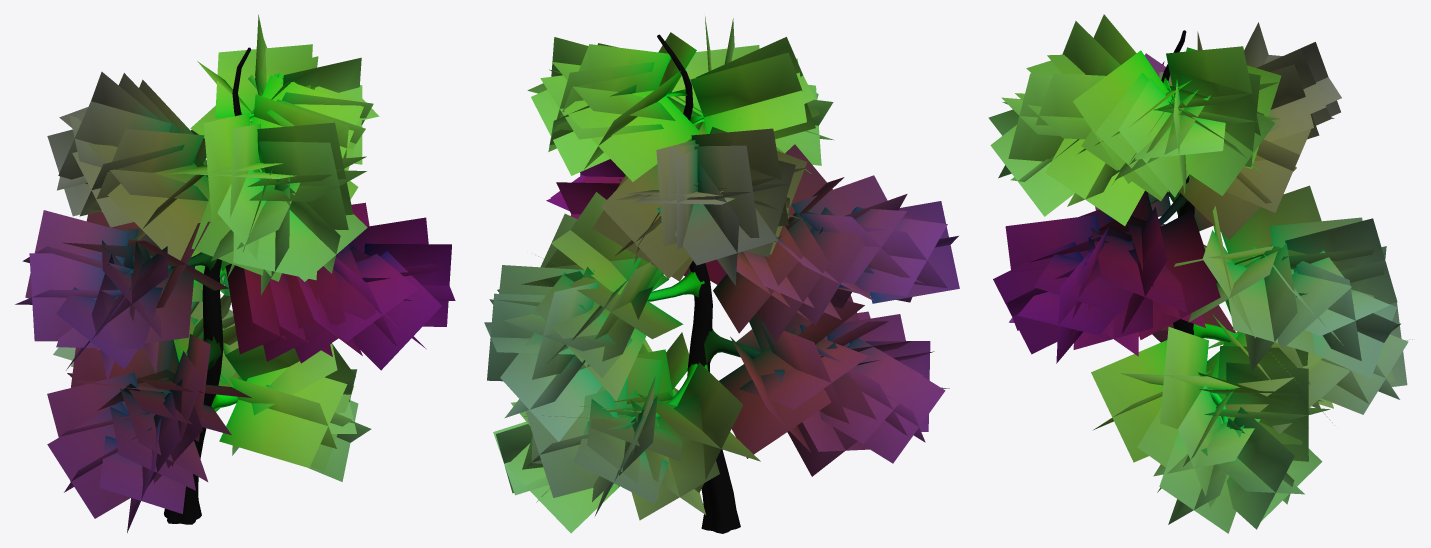
File: URP_P14_Tree_3_LOD_1.fbx
3 renders of one model, left to right at view 1: azimuth 30°, elevation 25°; view 2: azimuth 150°, elevation 25°; view 3: azimuth 270°, elevation 25°, orthographic. The views are drawn at different scales.
Visible parts, largest first — view 1: Tree_3_LOD_1; view 2: Tree_3_LOD_1; view 3: Tree_3_LOD_1.
Boxes of the visible parts, <box> form: Tree_3_LOD_1: <box>15,14,455,532</box>; Tree_3_LOD_1: <box>484,16,959,533</box>; Tree_3_LOD_1: <box>988,14,1412,533</box>.
Bounding box in the file's own units: 452 × 498 × 417.
